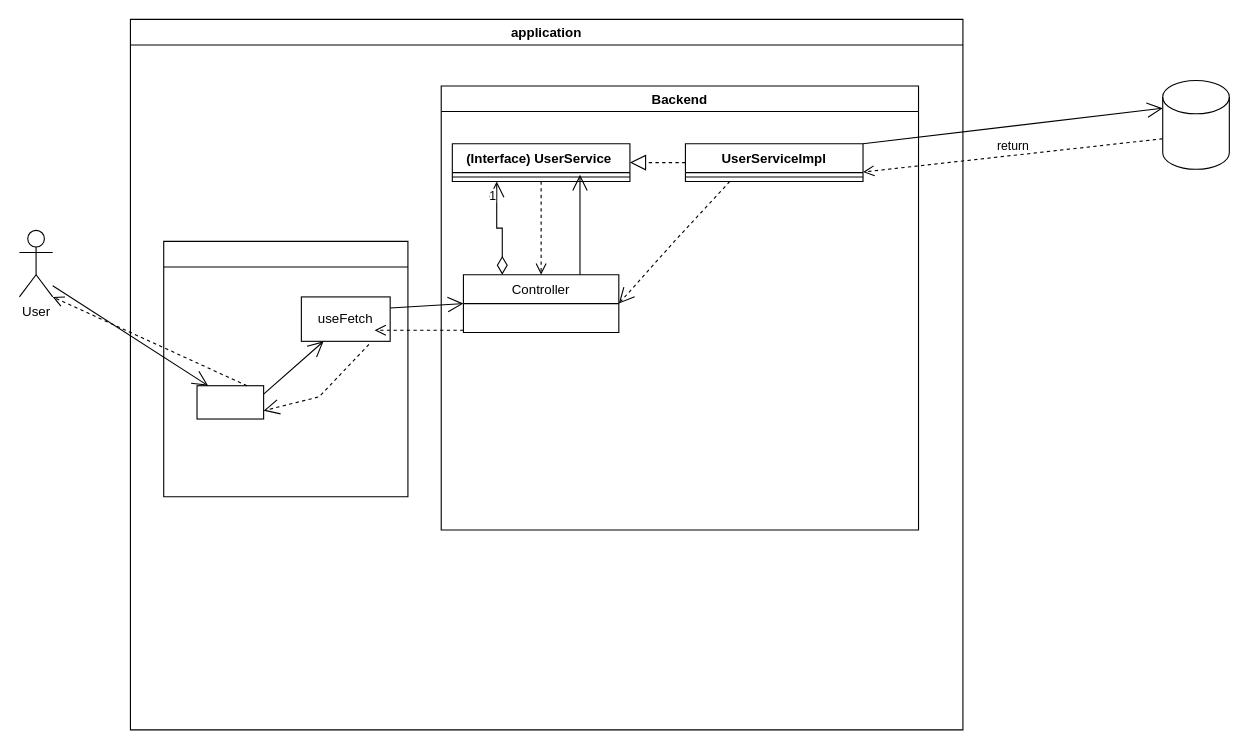
This 1249x749 diagram has some shape labels left out. The box of each missing label's shape, as (x1, y1, x2, y2) in pixels:
API: (1162, 79, 1229, 169)
Frontend: (163, 240, 408, 497)
UserSearch: (196, 385, 264, 419)
